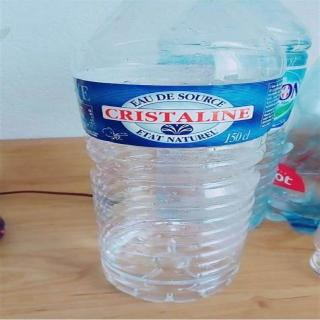Plastic-bottle: (69, 5, 291, 307)
